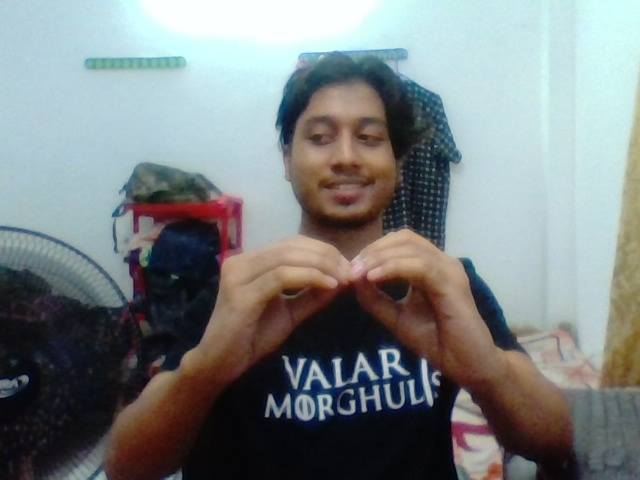B: (188, 221, 524, 391)
